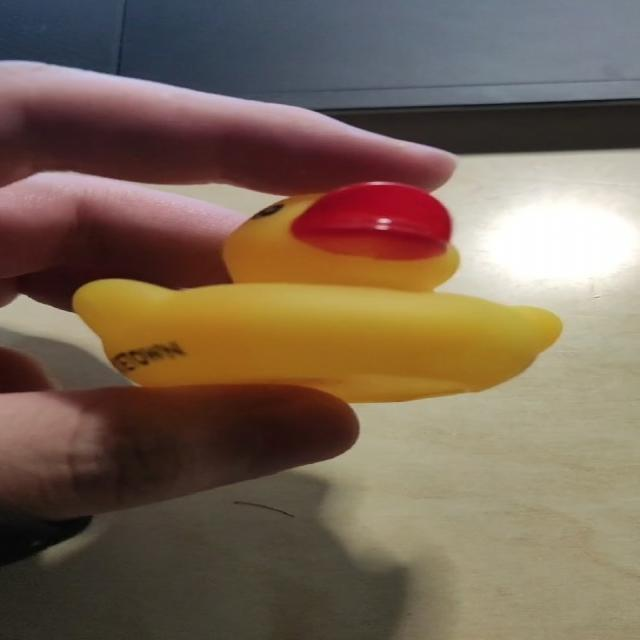rubber-duck: (72, 181, 560, 400)
